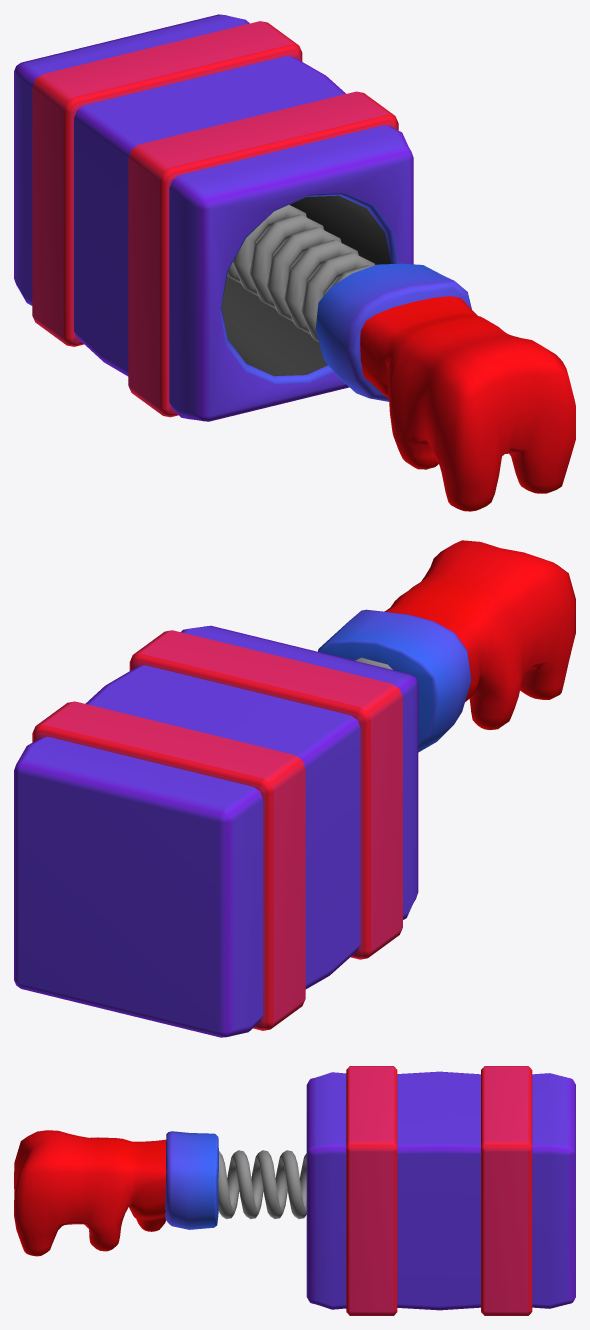
Rendered from obstacle_5_001.glb.
3 views of the same model, one above another, from view 1: azimuth 30°, elevation 25°; view 2: azimuth 150°, elevation 25°; view 3: azimuth 270°, elevation 25° (orthographic). The views are drawn at different scales.
Parts seen in each view (by area): view 1: obstacle_5_001, obstacle_5_003, obstacle_5_002; view 2: obstacle_5_001, obstacle_5_003; view 3: obstacle_5_001, obstacle_5_003, obstacle_5_002.
Boxes of the visible parts, x1,y1,x2,y2 form: obstacle_5_001: [14, 14, 413, 421]; obstacle_5_003: [315, 263, 575, 511]; obstacle_5_002: [227, 204, 374, 342]; obstacle_5_001: [14, 625, 418, 1037]; obstacle_5_003: [318, 540, 575, 752]; obstacle_5_001: [306, 1066, 575, 1315]; obstacle_5_003: [14, 1130, 218, 1256]; obstacle_5_002: [218, 1150, 306, 1219].
Size of the model in its own units: 3.54 by 3.54 by 10.32.
Materials: 2 (2 with a texture image).
